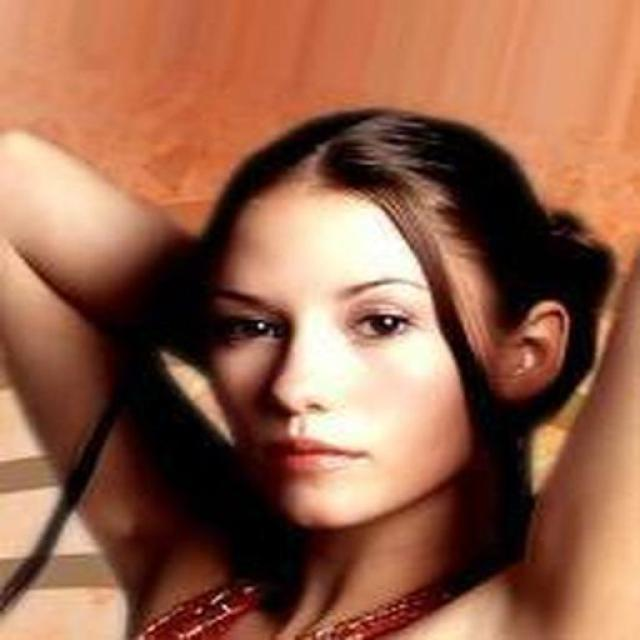bareface: (173, 111, 590, 522)
